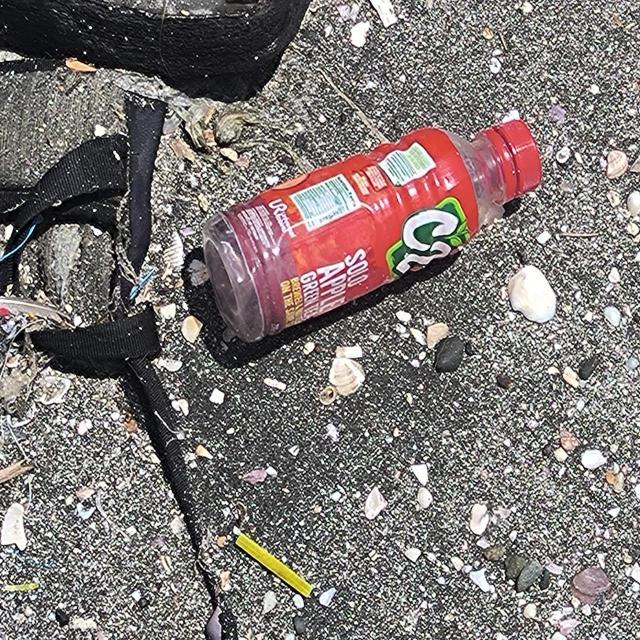plastic_waste: (203, 120, 547, 345)
